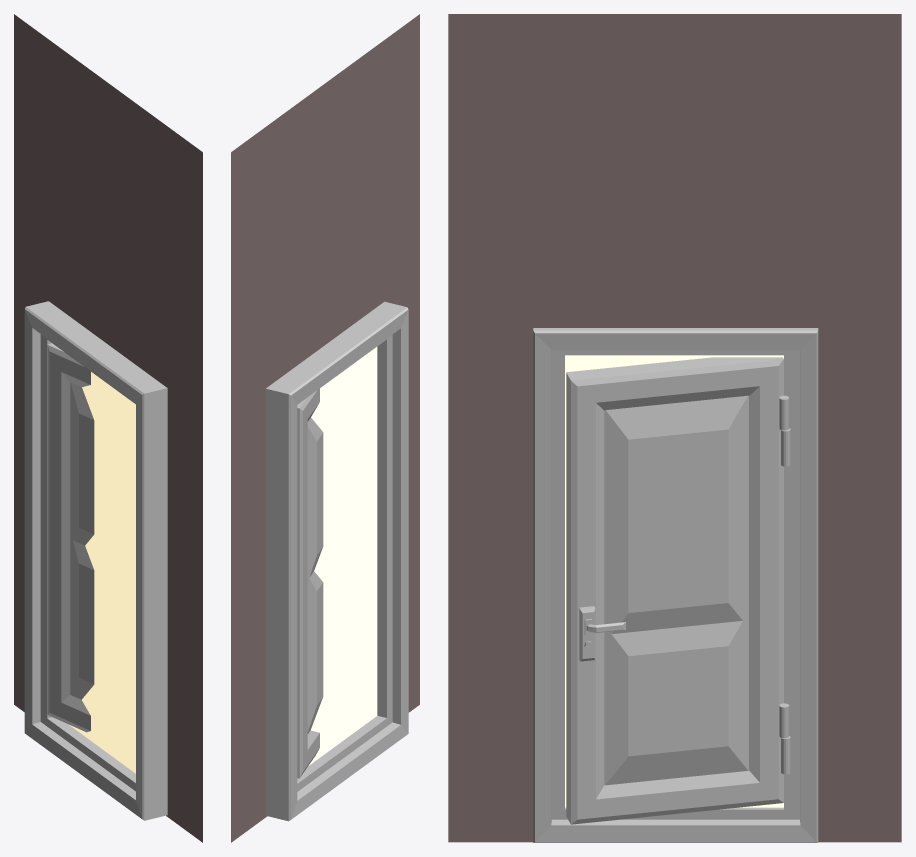
File: WallDoor.fbx
3 views of the same model, side by side, from view 1: azimuth 30°, elevation 25°; view 2: azimuth 150°, elevation 25°; view 3: azimuth 270°, elevation 25° (orthographic). The views are drawn at different scales.
Parts seen in each view (by area): view 1: WallDoor; view 2: WallDoor; view 3: WallDoor.
Part boxes in pixels (x1,y1,x2,y2): WallDoor: (14, 14, 202, 842); WallDoor: (231, 14, 419, 842); WallDoor: (448, 14, 901, 842).
Size of the model in its own units: 62.31 by 605 by 300.
